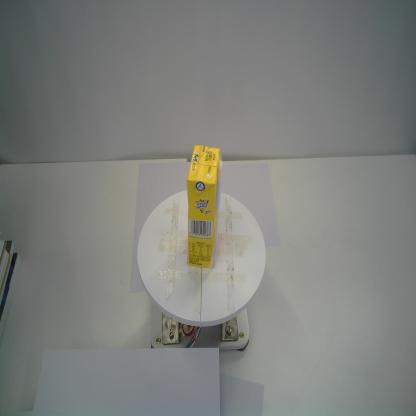Drink: (185, 143, 224, 272)
